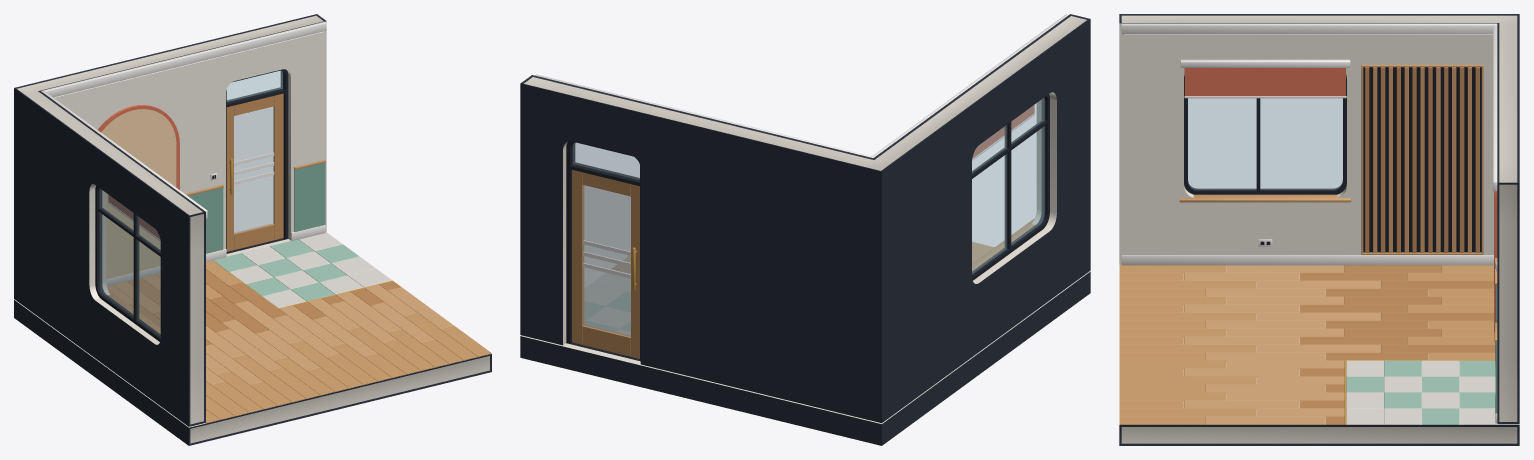
The model's file is office_room.glb.
3 renders of one model, left to right at view 1: azimuth 30°, elevation 25°; view 2: azimuth 150°, elevation 25°; view 3: azimuth 270°, elevation 25°, orthographic. The views are drawn at different scales.
Parts seen in each view (by area): view 1: Office_Walls_Main, Office_Floor_Planks, Office_Door_Assembly, Office_Wall_ArchFeature, Office_Floor_Slab, Office_Floor_Tiles, Office_Window_Assembly, Office_Trim_And_Fixtures; view 2: Office_Walls_Main, Office_Door_Assembly, Office_Floor_Slab, Office_Window_Assembly, Office_Floor_Tiles, Office_Trim_And_Fixtures; view 3: Office_Walls_Main, Office_Floor_Planks, Office_Acoustic_Slats, Office_Window_Assembly, Office_Floor_Tiles, Office_Trim_And_Fixtures, Office_Floor_Slab, Office_Wall_ArchFeature.
Boxes of the visible parts, box(x1,y1,x2,y2) form: Office_Walls_Main: box(14, 14, 326, 426); Office_Floor_Planks: box(107, 260, 491, 423); Office_Door_Assembly: box(226, 69, 288, 253); Office_Wall_ArchFeature: box(98, 105, 325, 278); Office_Floor_Slab: box(14, 239, 491, 445); Office_Floor_Tiles: box(213, 232, 392, 308); Office_Window_Assembly: box(95, 185, 160, 341); Office_Trim_And_Fixtures: box(41, 22, 326, 285); Office_Walls_Main: box(520, 14, 1090, 423); Office_Door_Assembly: box(566, 141, 640, 361); Office_Floor_Slab: box(520, 271, 1090, 445); Office_Window_Assembly: box(972, 94, 1049, 280); Office_Floor_Tiles: box(584, 269, 630, 335); Office_Trim_And_Fixtures: box(535, 14, 1068, 157); Office_Walls_Main: box(1119, 14, 1519, 424); Office_Floor_Planks: box(1119, 264, 1495, 424); Office_Acoustic_Slats: box(1361, 64, 1483, 254); Office_Window_Assembly: box(1179, 59, 1351, 202); Office_Floor_Tiles: box(1344, 360, 1496, 424); Office_Trim_And_Fixtures: box(1121, 23, 1497, 423); Office_Floor_Slab: box(1119, 265, 1519, 445); Office_Wall_ArchFeature: box(1494, 191, 1497, 413).
Size of the model in its own units: 4.66 by 3.38 by 4.66.
